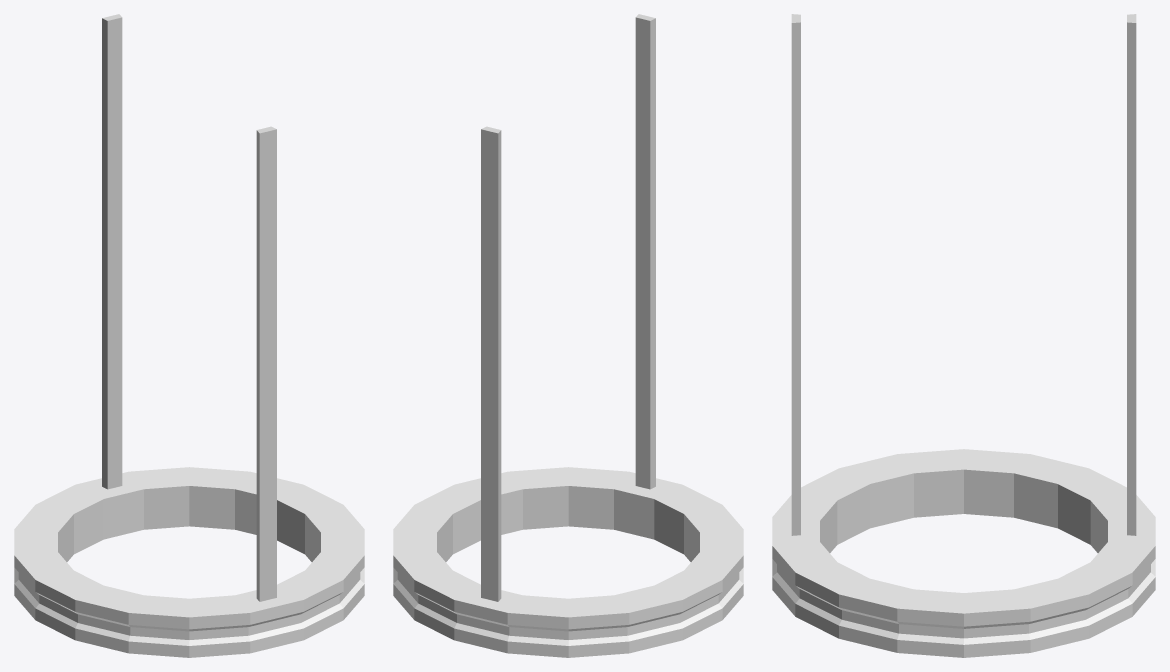
File: Int_Light04_1.FBX
3 renders of one model, left to right at view 1: azimuth 30°, elevation 25°; view 2: azimuth 150°, elevation 25°; view 3: azimuth 270°, elevation 25°, orthographic. The views are drawn at different scales.
Visible parts, largest first — view 1: Int_Light04_1; view 2: Int_Light04_1; view 3: Int_Light04_1.
Part boxes in pixels (x1=…): Int_Light04_1: x1=14, y1=14, x2=364, y2=657; Int_Light04_1: x1=393, y1=14, x2=743, y2=657; Int_Light04_1: x1=772, y1=14, x2=1155, y2=657.
Size of what is drawn, in the model's own units: 1.62 by 2.55 by 1.59.
